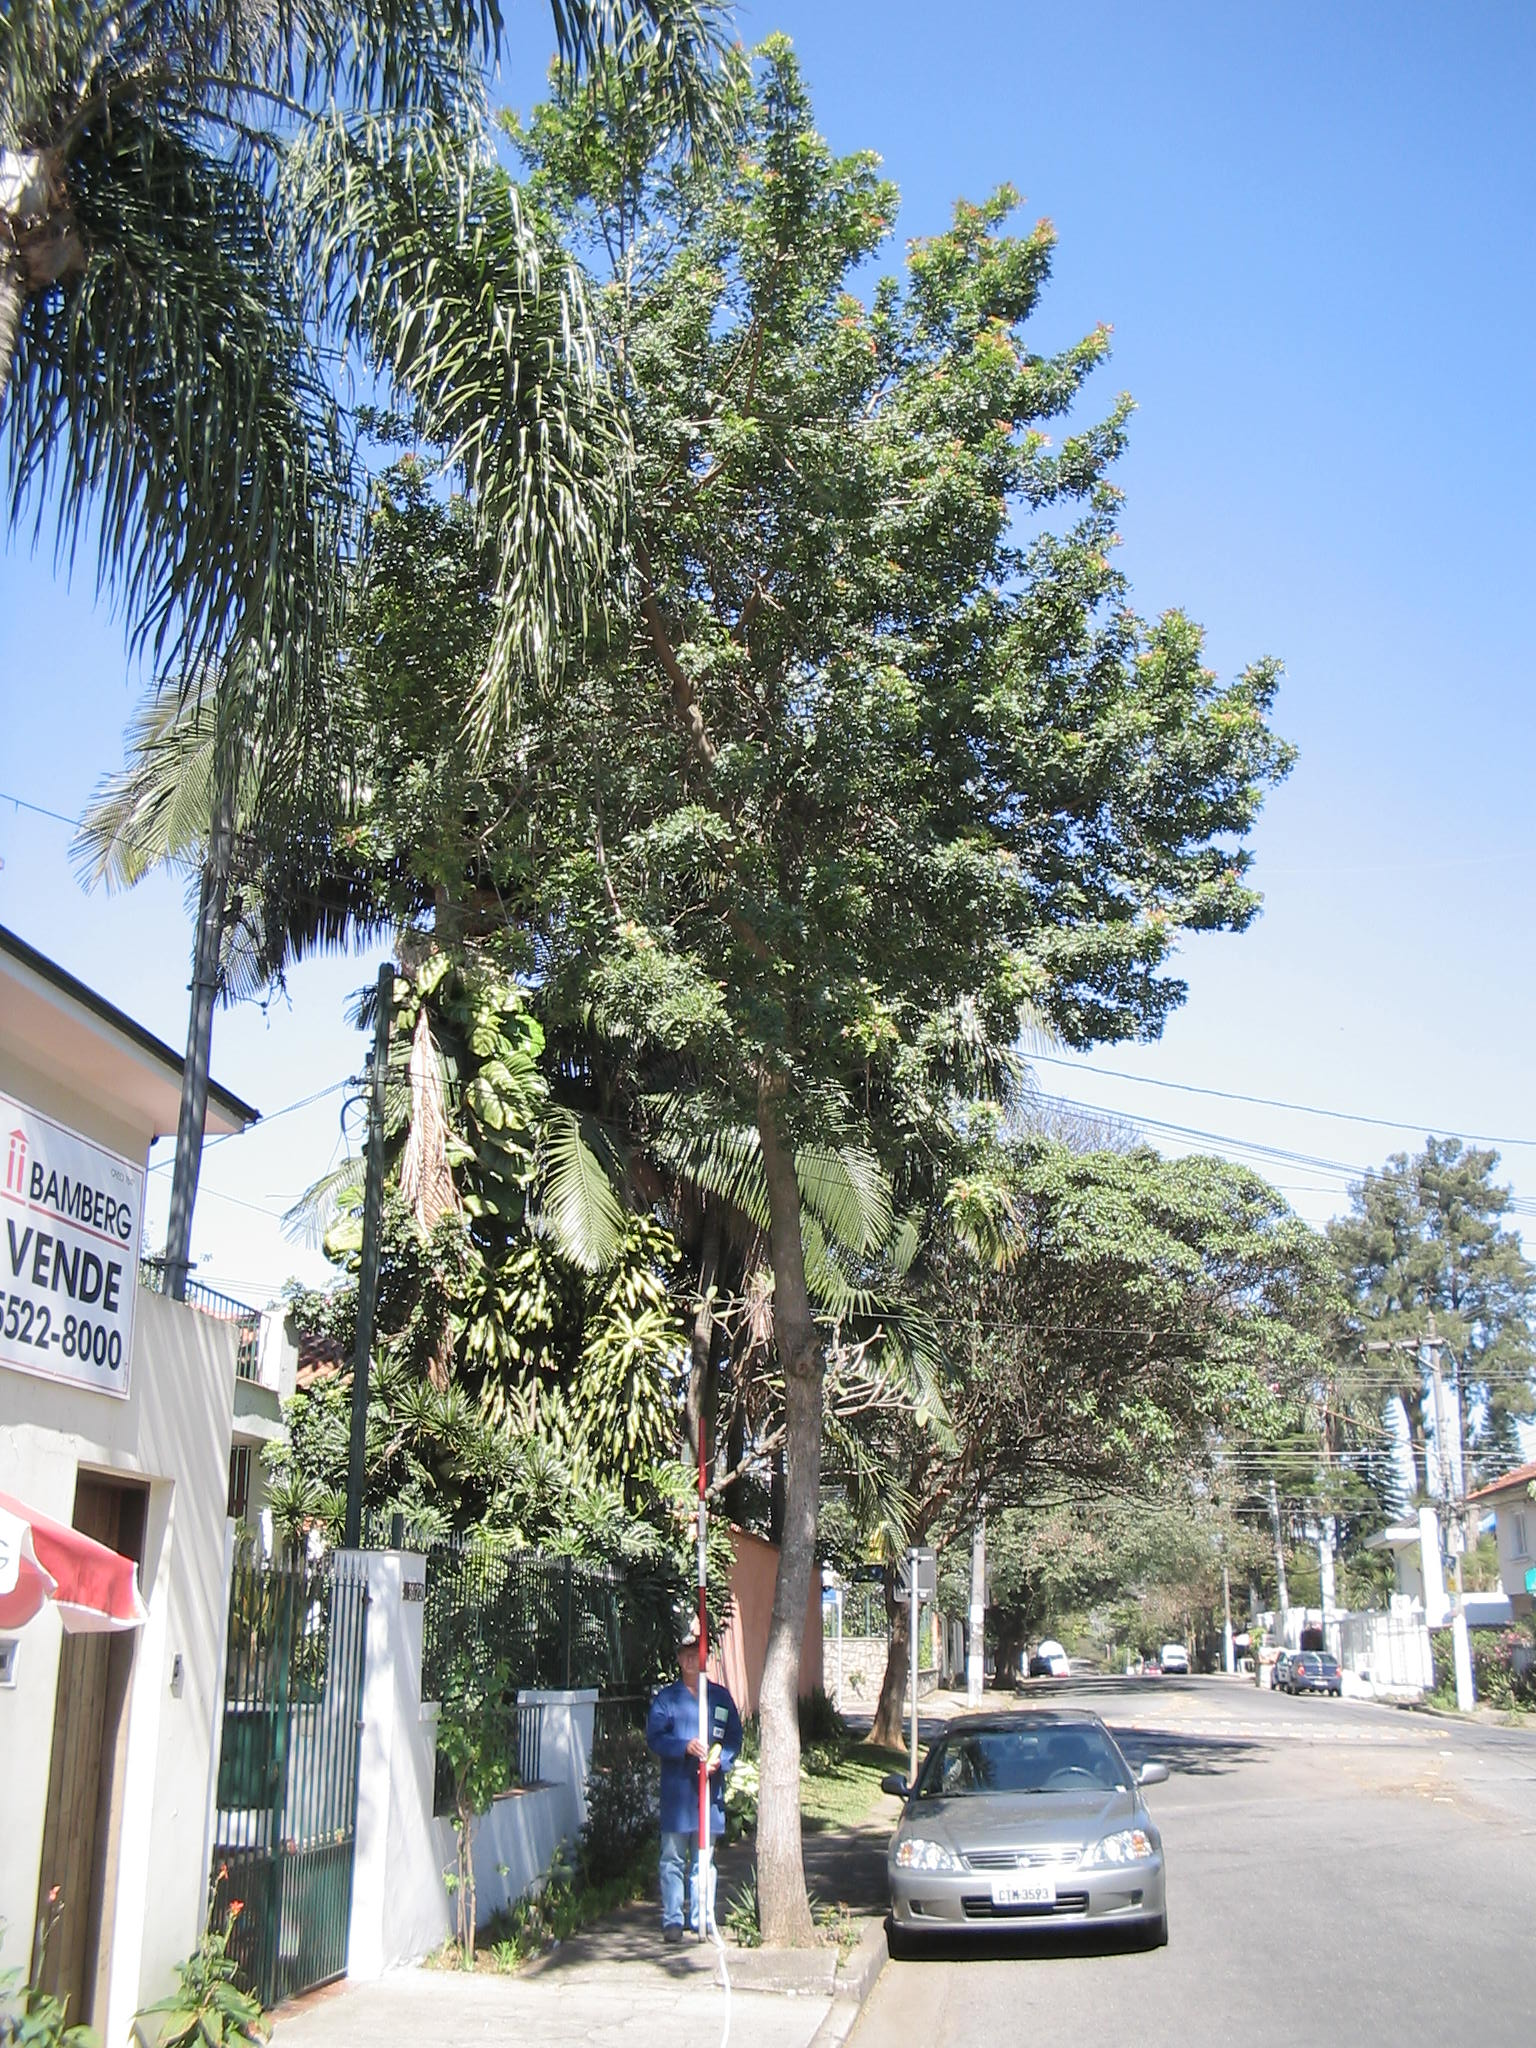crown: (336, 50, 1292, 1134)
stem: (716, 1100, 866, 1934)
stick: (650, 1411, 744, 1937)
tree: (316, 40, 1300, 1934), (837, 1161, 1312, 1742)
